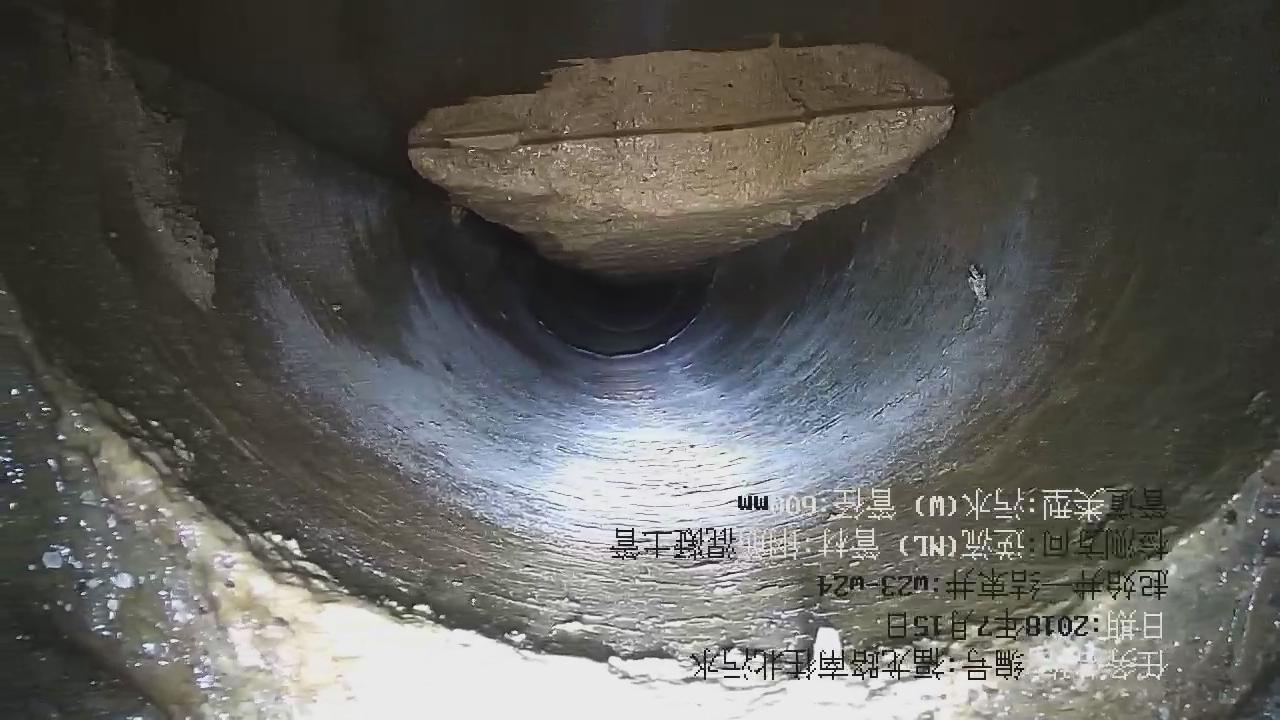JG: (410, 103, 952, 276)
